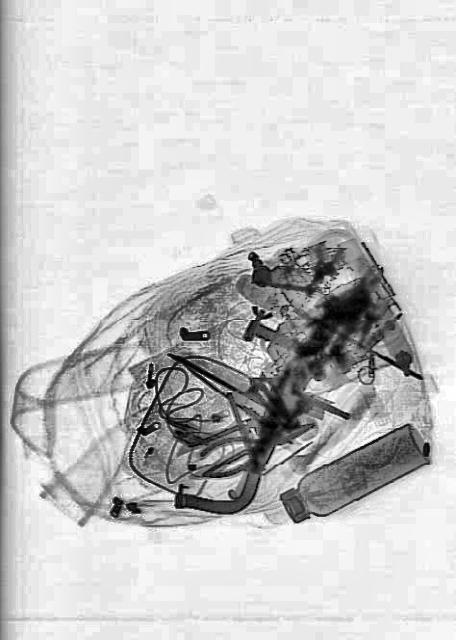Pliers: (197, 406, 318, 484)
